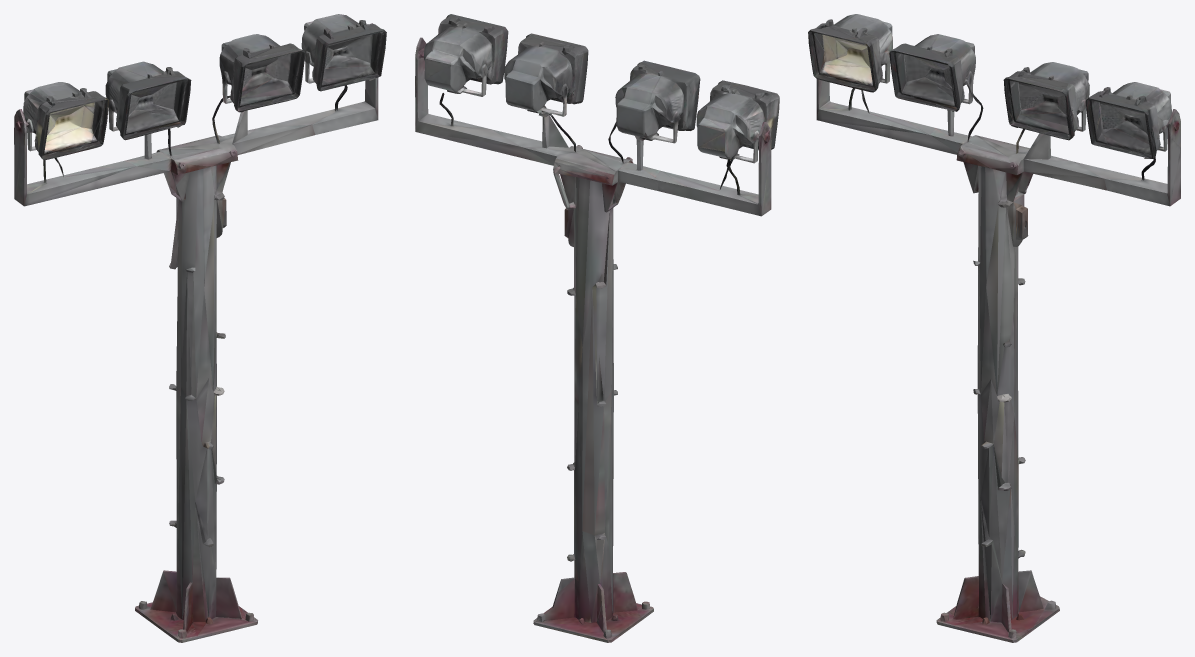
Rendered from lamp_flood.glb.
The picture shows the model from 3 angles, left to right: view 1: azimuth 30°, elevation 25°; view 2: azimuth 150°, elevation 25°; view 3: azimuth 330°, elevation 25°; orthographic projection. The views are drawn at different scales.
Visible parts, largest first — view 1: Mesh_0; view 2: Mesh_0; view 3: Mesh_0.
Boxes of the visible parts, bbox=[...] form: Mesh_0: bbox=[14, 14, 386, 642]; Mesh_0: bbox=[415, 14, 779, 642]; Mesh_0: bbox=[808, 14, 1180, 642].
Size of the model in its own units: 1.26 by 1.9 by 0.2813.
1 material, 1 textured.
